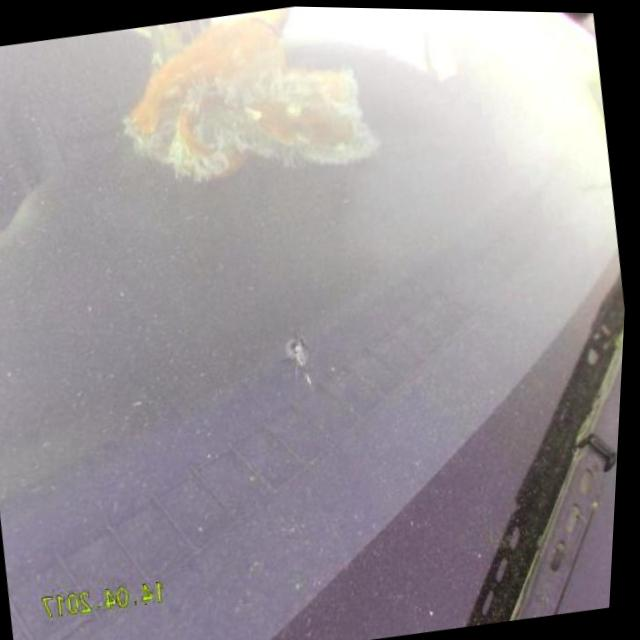Car-Damage: (277, 321, 327, 382)
